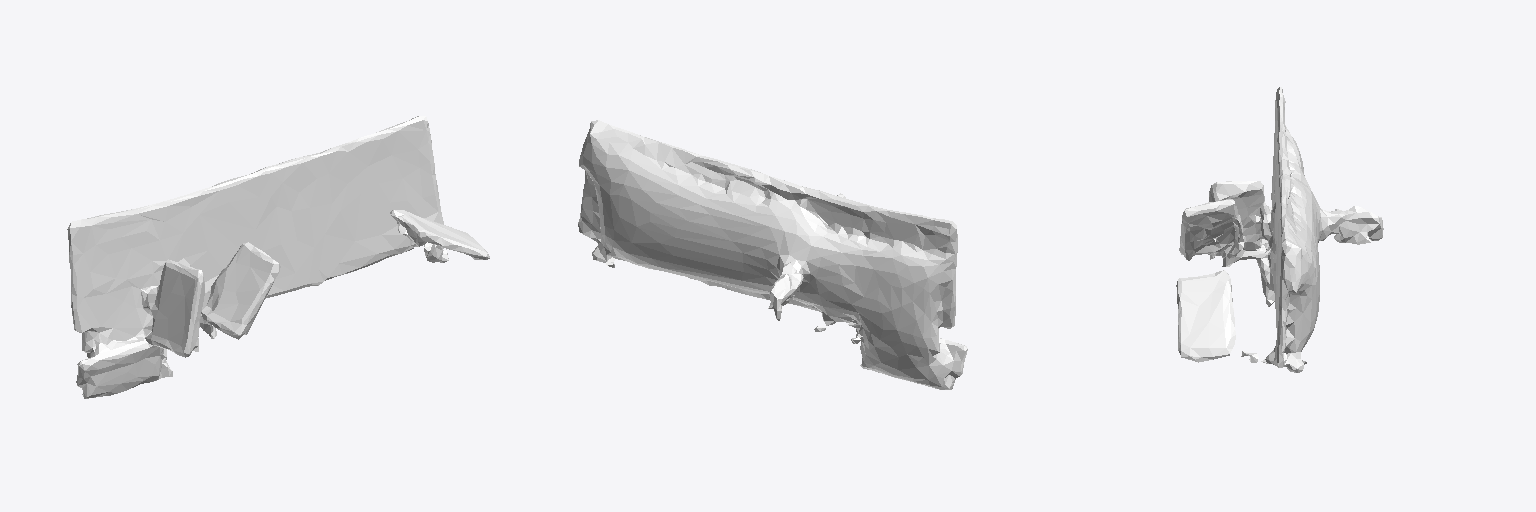
Rendered from 2019-10-16-centerdesk-trimmed.obj.
3 views of the same model, side by side, from view 1: azimuth 30°, elevation 25°; view 2: azimuth 150°, elevation 25°; view 3: azimuth 270°, elevation 25° (orthographic).
Size of the model in its own units: 2.52 by 1.25 by 1.2.